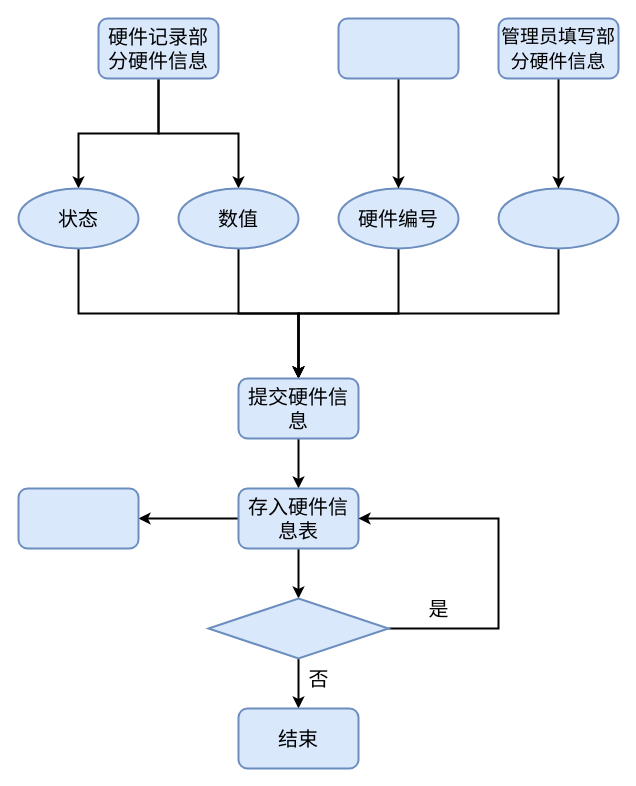
Some shapes in this 636 by 786 pixel diagram are drawn without their labels. Each missing label, with the centre of its shape:
房间编号: the point at 558,218
用户查询硬件信息: the point at 78,518
管理员是否修改: the point at 298,628
系统生成部分硬件信息: the point at 398,48
